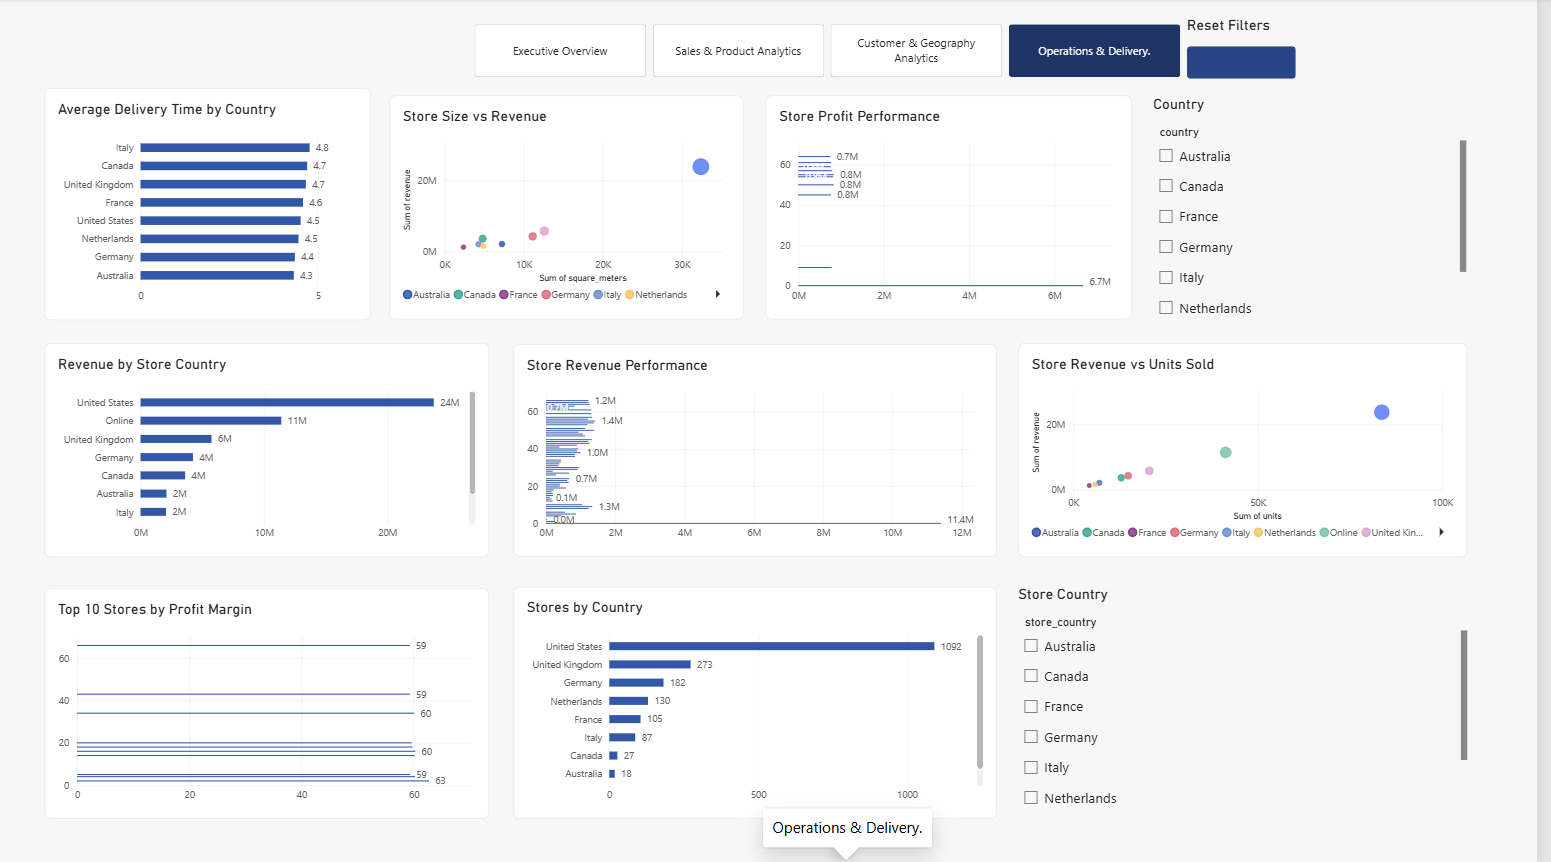

This screenshot's page, from the dashboard's own definition file:
{"tool":"powerbi","page":{"name":"Operations & Delivery.","canvas":[1920,1080],"ordinal":3},"visuals":[{"type":"clusteredBarChart","title":"Average Delivery Time by Country","fields":{"Category":["delivery_performance.country"],"Y":["Sum(delivery_performance.average_delivery_days)"]},"box":[59.3,111.6,406.4,289.5],"z":0},{"type":"clusteredBarChart","title":"Revenue by Store Country","fields":{"Category":["store_performance.store_country"],"Y":["Sum(store_performance.revenue)"]},"box":[59.3,430.8,554.7,266.9],"z":1000},{"type":"scatterChart","title":"Store Size vs Revenue","fields":{"Series":["store_performance.store_country"],"Size":["Sum(store_performance.units)"],"X":["Sum(store_performance.square_meters)"],"Y":["Sum(store_performance.revenue)"]},"box":[490.1,122.1,441.3,279.1],"z":2000},{"type":"clusteredBarChart","title":"Store Revenue Performance","fields":{"Category":["store_performance.store_key"],"Y":["Sum(store_performance.revenue)"]},"box":[643.6,432.6,603.5,265.1],"z":3000},{"type":"clusteredBarChart","title":"Store Profit Performance","fields":{"Category":["store_performance.store_key"],"Y":["Sum(store_performance.profit)"]},"box":[959.3,122.1,457,279.1],"z":4000},{"type":"clusteredBarChart","title":"Top 10 Stores by Profit Margin","fields":{"Category":["store_performance.store_key"],"Y":["Sum(store_performance.profit_margin)"]},"box":[59.3,736,554.7,287.8],"z":5000},{"type":"clusteredBarChart","title":"Stores by Country","fields":{"Category":["store_performance.store_country"],"Y":["Sum(store_performance.store_key)"]},"box":[643.6,734.3,603.5,289.5],"z":6000},{"type":"scatterChart","title":"Store Revenue vs Units Sold","fields":{"Series":["store_performance.store_country"],"Size":["Sum(store_performance.orders)"],"X":["Sum(store_performance.units)"],"Y":["Sum(store_performance.revenue)"]},"box":[1273.3,430.8,559.9,266.9],"z":7000},{"type":"slicer","title":"Store Country","fields":{"Values":["store_performance.store_country"]},"box":[1273.3,732.6,559.9,291.3],"z":8000},{"type":"slicer","title":"Country","fields":{"Values":["delivery_performance.country"]},"box":[1442.4,122.1,390.7,279.1],"z":9000},{"type":"pageNavigator","box":[594.8,33.1,880.8,66.3],"z":9001}]}

Visuals, with their boxes in screenshot pixels (x1, y1, x2, y2), scaled from the page's 1920x1080 canvas onto the 1551x862 screenshot:
"Average Delivery Time by Country" clusteredBarChart: pyautogui.locateOnScreen(48, 89, 376, 320)
"Revenue by Store Country" clusteredBarChart: pyautogui.locateOnScreen(48, 344, 496, 557)
"Store Size vs Revenue" scatterChart: pyautogui.locateOnScreen(396, 97, 752, 320)
"Store Revenue Performance" clusteredBarChart: pyautogui.locateOnScreen(520, 345, 1007, 557)
"Store Profit Performance" clusteredBarChart: pyautogui.locateOnScreen(775, 97, 1144, 320)
"Top 10 Stores by Profit Margin" clusteredBarChart: pyautogui.locateOnScreen(48, 587, 496, 817)
"Stores by Country" clusteredBarChart: pyautogui.locateOnScreen(520, 586, 1007, 817)
"Store Revenue vs Units Sold" scatterChart: pyautogui.locateOnScreen(1029, 344, 1481, 557)
"Store Country" slicer: pyautogui.locateOnScreen(1029, 585, 1481, 817)
"Country" slicer: pyautogui.locateOnScreen(1165, 97, 1481, 320)
pageNavigator: pyautogui.locateOnScreen(480, 26, 1192, 79)
